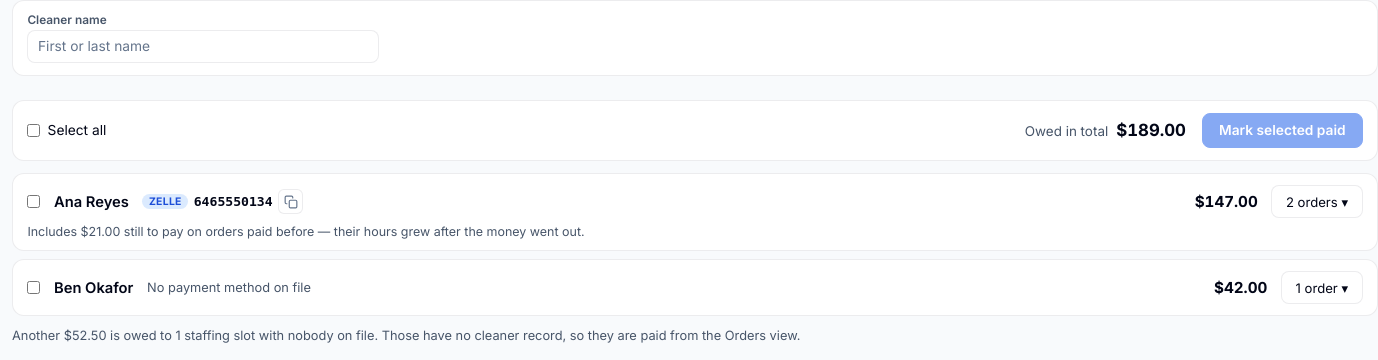
Test: UnpaidCleanersComponent › the name filter › matches a first name, a surname, or both typed with a space
Type "ana" into the search field with id "unpaidNameFilter" at (203, 46), box [27, 30, 379, 63]
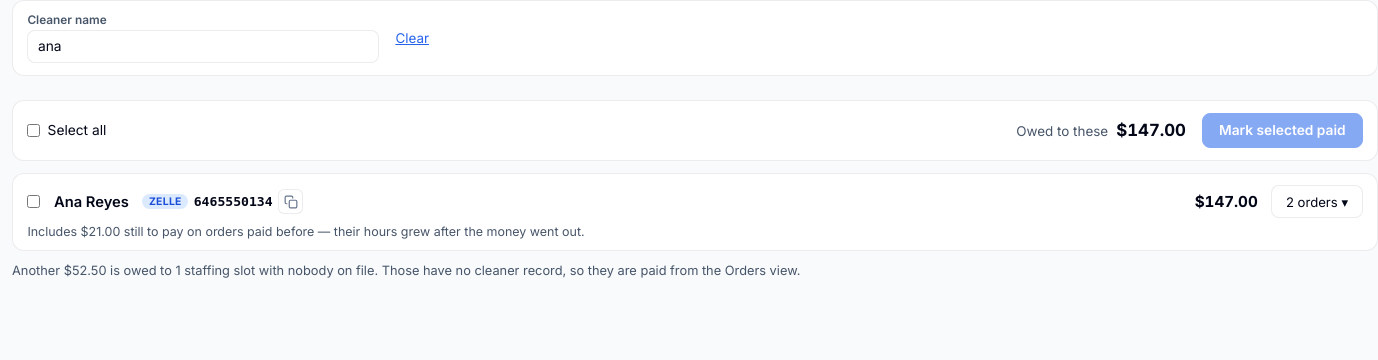
Replace the text in the search field with id "unpaidNameFilter" with "Ben Oka" at (203, 46), box [27, 30, 379, 63]
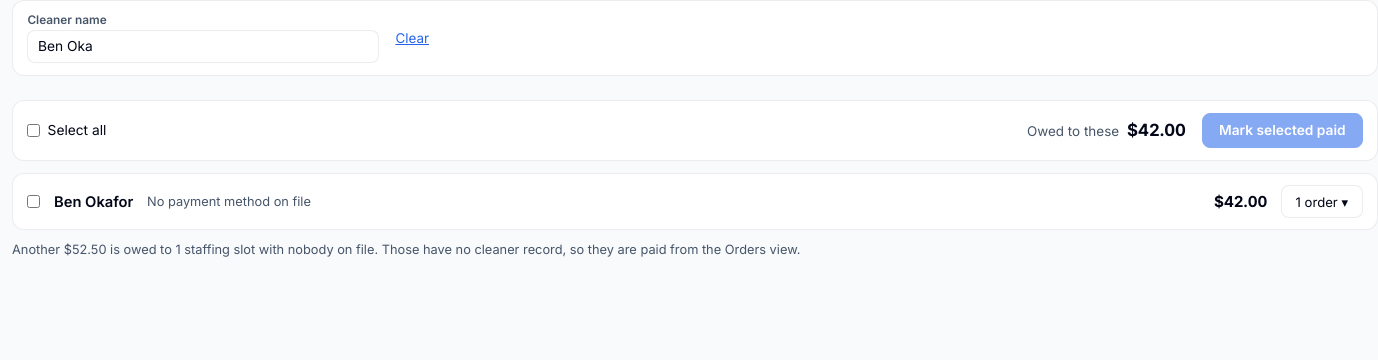
Check: the text "Ana Reyes" is gone
Replace the text in the search field with id "unpaidNameFilter" with "Ana Okafor" at (203, 46), box [27, 30, 379, 63]
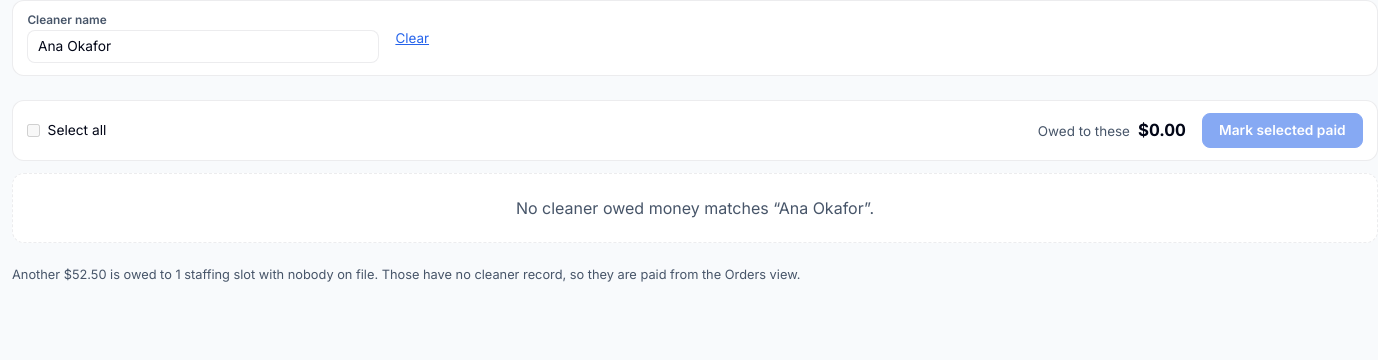
Check: the text "No cleaner owed money matches" is shown, box [516, 198, 874, 218]
